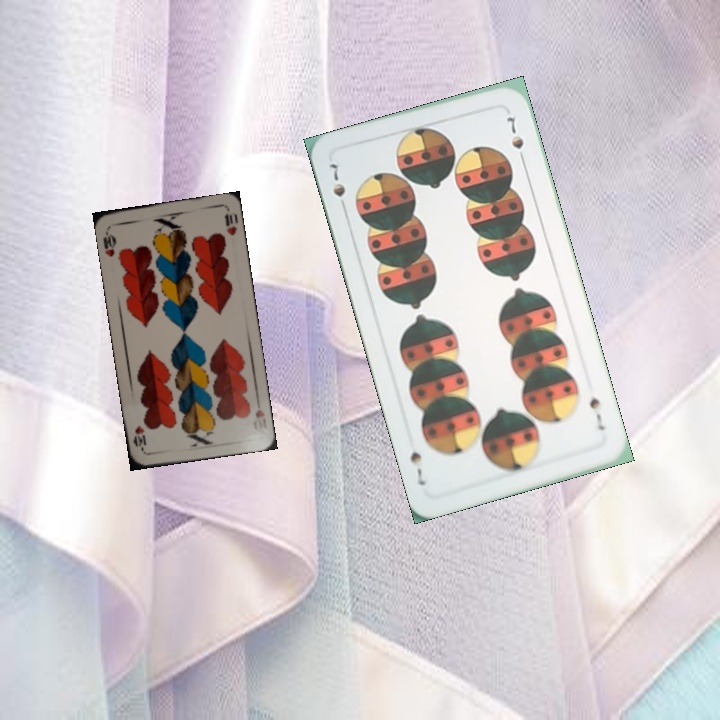H10: (99, 225, 119, 259), (251, 394, 267, 421)
S7: (326, 159, 350, 215), (585, 390, 608, 433)
